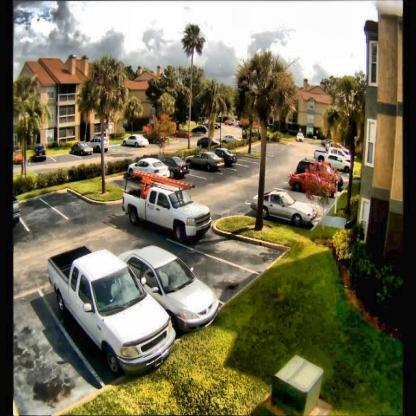free: (13, 309, 76, 414), (209, 256, 245, 304), (235, 226, 273, 266), (22, 194, 54, 232), (67, 187, 95, 223)
occupied: (78, 258, 157, 366), (164, 258, 218, 337), (133, 176, 200, 236), (260, 182, 313, 227), (131, 152, 169, 178)
